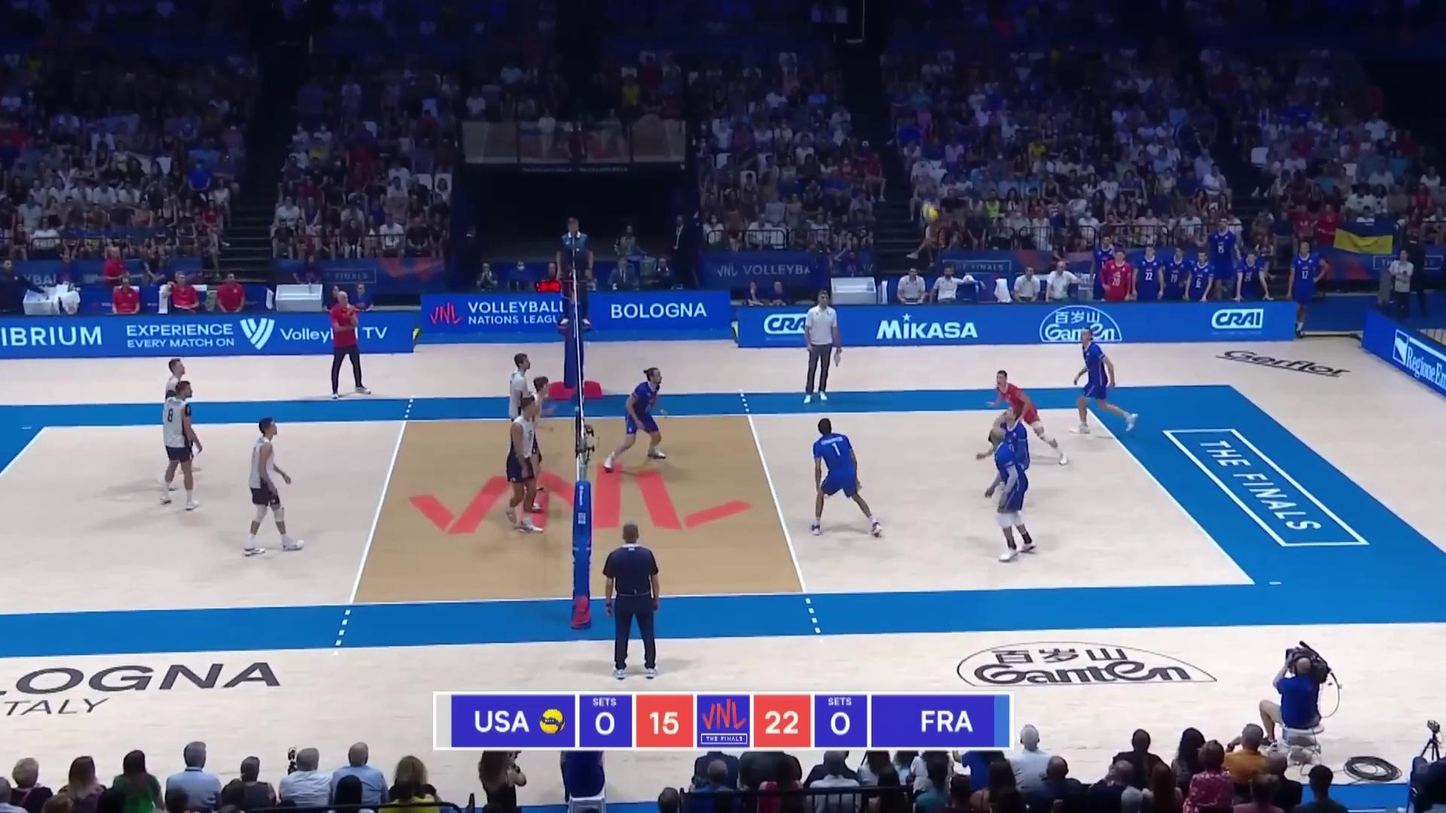player: (240, 418, 304, 557), (806, 416, 881, 534), (978, 426, 1038, 563), (987, 369, 1067, 468), (1072, 329, 1140, 434), (605, 366, 670, 473), (502, 394, 546, 532), (978, 407, 1033, 507), (160, 381, 201, 510), (516, 376, 552, 513), (162, 357, 199, 473), (506, 354, 536, 469)
refree: (604, 524, 665, 678), (554, 219, 592, 330)
